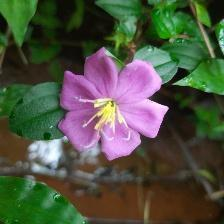malabar melastome: (56, 46, 171, 164)
